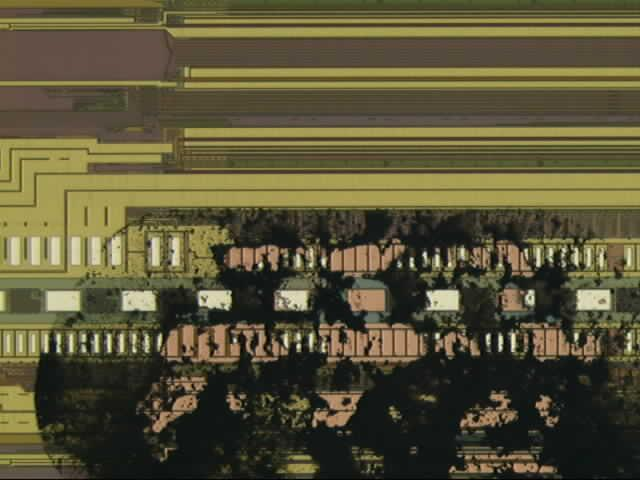PO CONTAMINATION: (32, 209, 640, 480)
